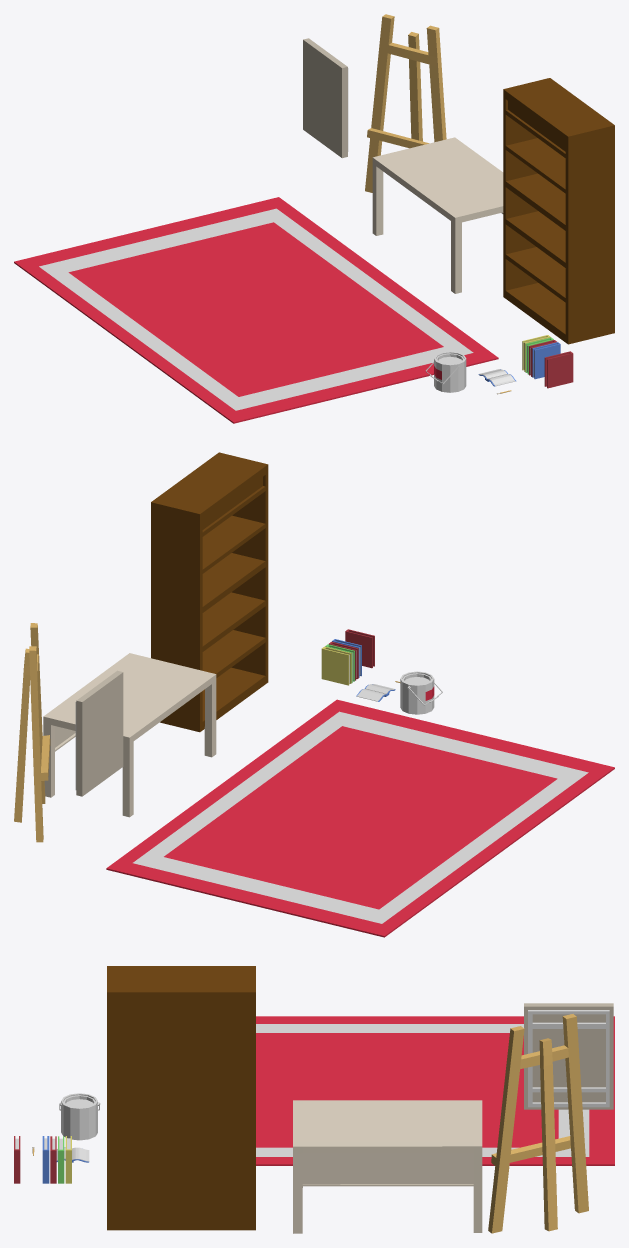
File: Art Studio Collection.fbx
The picture shows the model from 3 angles, top to bottom: view 1: azimuth 30°, elevation 25°; view 2: azimuth 150°, elevation 25°; view 3: azimuth 270°, elevation 25°; orthographic projection. The views are drawn at different scales.
Visible parts, largest first — view 1: Rug, Bookshelf, Cube, Easel, Canvas, Paint Bucket, Book Collection - 1, baseBook; view 2: Rug, Bookshelf, Cube, Canvas, Easel, Book Collection - 1, Paint Bucket, baseBook; view 3: Bookshelf, Rug, Cube, Easel, Canvas, Paint Bucket, Book Collection - 1.
Part boxes in pixels (bbox=[...]): Rug: bbox=[14, 197, 498, 423]; Bookshelf: bbox=[503, 78, 614, 344]; Cube: bbox=[372, 137, 503, 293]; Easel: bbox=[365, 14, 446, 192]; Canvas: bbox=[303, 38, 348, 158]; Paint Bucket: bbox=[425, 351, 466, 392]; Book Collection - 1: bbox=[522, 335, 560, 379]; baseBook: bbox=[544, 351, 573, 388]; Rug: bbox=[106, 699, 614, 937]; Bookshelf: bbox=[151, 452, 268, 732]; Cube: bbox=[43, 653, 216, 817]; Canvas: bbox=[75, 670, 123, 796]; Easel: bbox=[14, 623, 50, 842]; Book Collection - 1: bbox=[321, 639, 361, 685]; Paint Bucket: bbox=[400, 671, 442, 714]; baseBook: bbox=[345, 629, 374, 668]; Bookshelf: bbox=[107, 966, 255, 1230]; Rug: bbox=[256, 1016, 614, 1165]; Cube: bbox=[293, 1100, 482, 1233]; Easel: bbox=[488, 1014, 588, 1233]; Canvas: bbox=[524, 1003, 613, 1109]; Paint Bucket: bbox=[59, 1093, 100, 1140]; Book Collection - 1: bbox=[42, 1136, 71, 1183].
Size of the model in its own units: 13362 by 6964 by 15827.
